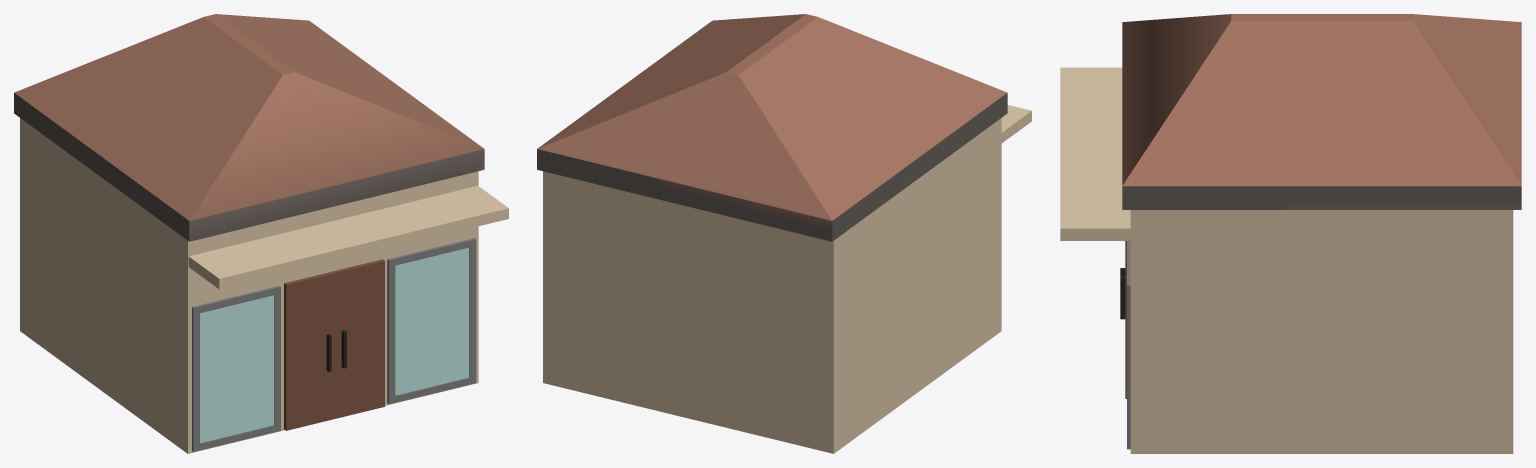
File: BangunanGenericVar1_3.fbx
3 renders of one model, left to right at view 1: azimuth 30°, elevation 25°; view 2: azimuth 150°, elevation 25°; view 3: azimuth 270°, elevation 25°, orthographic. The views are drawn at different scales.
Parts seen in each view (by area): view 1: Bangunan_Var1_rev; view 2: Bangunan_Var1_rev; view 3: Bangunan_Var1_rev.
Boxes of the visible parts, <box> form: Bangunan_Var1_rev: <box>14,14,508,453</box>; Bangunan_Var1_rev: <box>537,14,1031,453</box>; Bangunan_Var1_rev: <box>1060,14,1521,453</box>.
Size of the model in its own units: 298 by 301 by 354.
